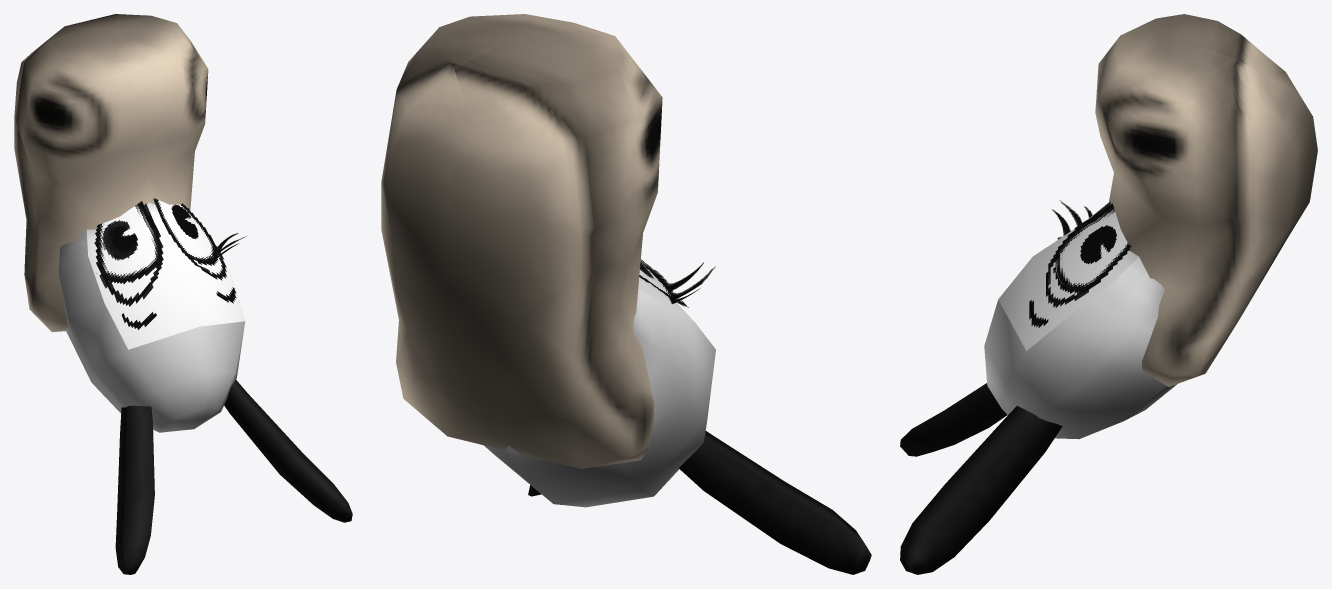
Rendered from hls.glb.
3 views of the same model, side by side, from view 1: azimuth 30°, elevation 25°; view 2: azimuth 150°, elevation 25°; view 3: azimuth 270°, elevation 25° (orthographic). The views are drawn at different scales.
Visible parts, largest first — view 1: muzzle-short-neutral, head-long, ears-short, head-front-long, eyes-long, joint_pupilL_long, joint_pupilR_long; view 2: muzzle-short-neutral, head-long, ears-short, eyelashes; view 3: muzzle-short-neutral, head-long, ears-short, head-front-long, eyes-long, joint_pupilR_long.
Part boxes in pixels (x1,y1,x2,y2): muzzle-short-neutral: (14, 14, 208, 331); head-long: (58, 230, 245, 432); ears-short: (115, 380, 352, 574); head-front-long: (86, 202, 244, 349); eyes-long: (94, 198, 236, 329); joint_pupilL_long: (102, 220, 138, 260); joint_pupilR_long: (171, 204, 198, 238); muzzle-short-neutral: (381, 14, 662, 468); head-long: (484, 288, 715, 507); ears-short: (528, 431, 871, 574); eyelashes: (640, 260, 715, 304); muzzle-short-neutral: (1095, 14, 1317, 386); head-long: (984, 257, 1176, 439); ears-short: (900, 383, 1062, 574); head-front-long: (998, 202, 1138, 350); eyes-long: (1029, 202, 1131, 327); joint_pupilR_long: (1080, 225, 1116, 264).
Bounding box in the file's own units: 1.11 × 2.03 × 1.61.
7 materials, 7 textured.
